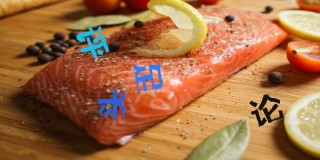头: (97, 90, 125, 122)
论: (249, 92, 285, 128)
评: (75, 25, 111, 60)
足: (132, 60, 164, 96)
